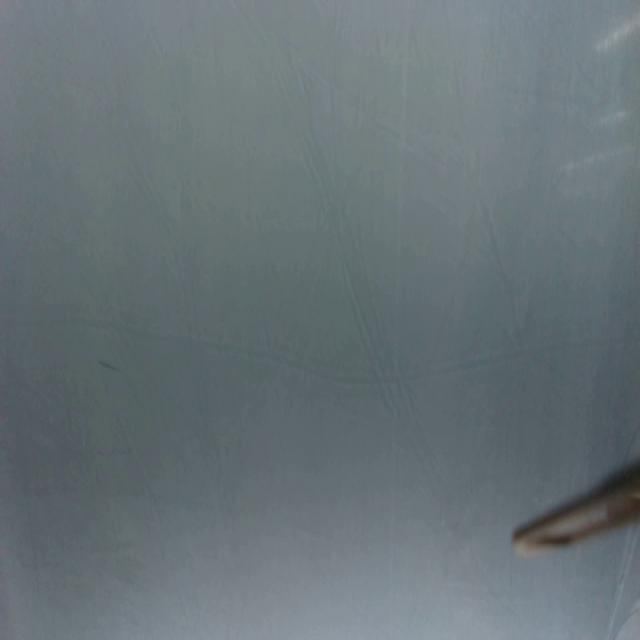crease: (95, 354, 122, 378)
